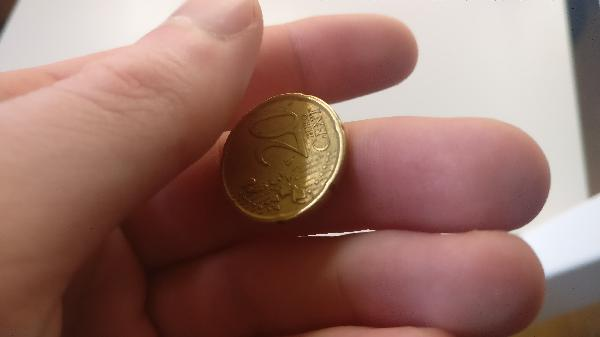Twenty Cent: (211, 92, 351, 224)
